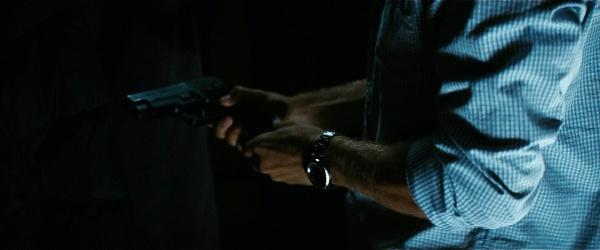Gun: (125, 73, 238, 127)
